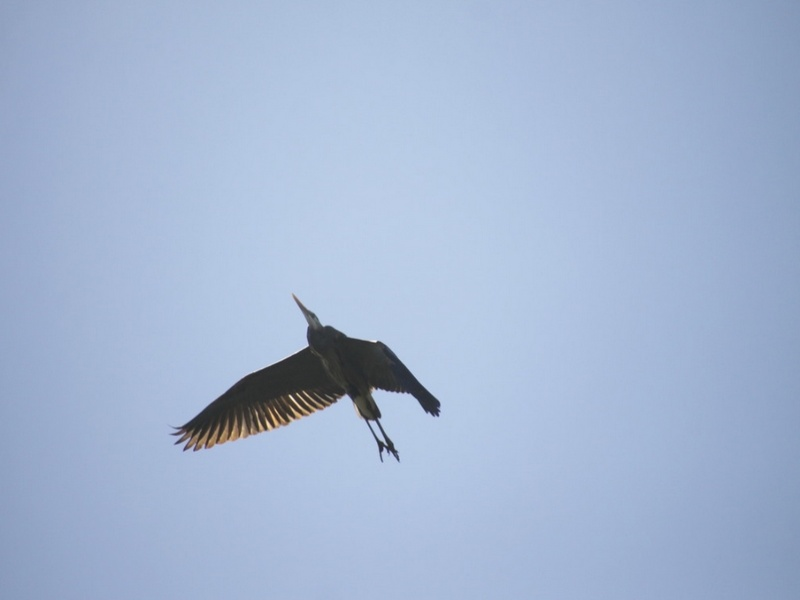heron: (169, 294, 445, 472)
